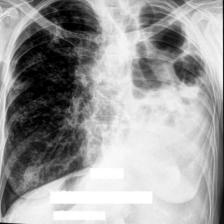tuberculosis: (1, 0, 223, 224)
